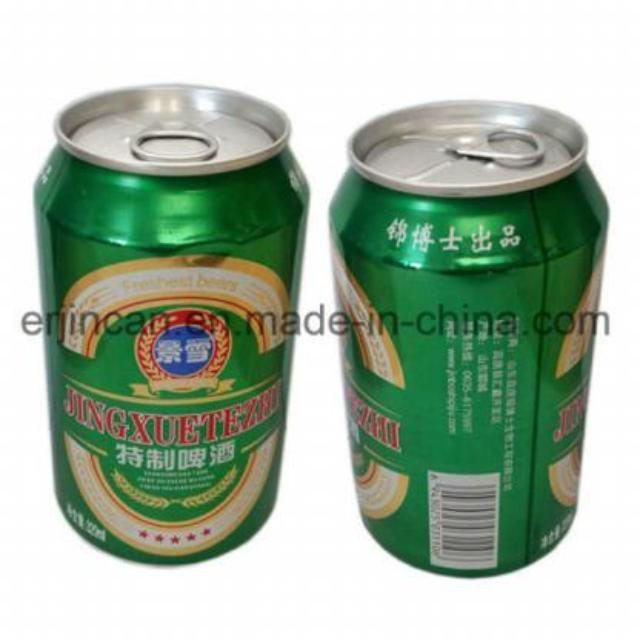metal: (329, 100, 605, 572), (34, 83, 305, 560)
